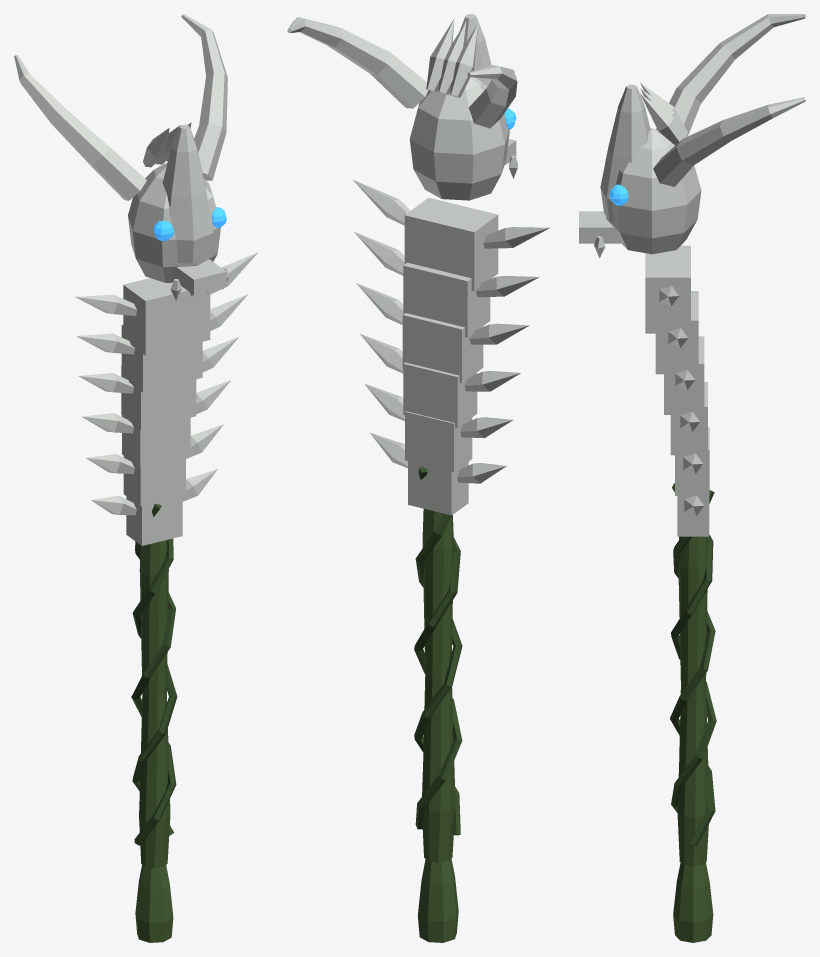
Rendered from staff_frostbone.glb.
3 renders of one model, left to right at view 1: azimuth 30°, elevation 25°; view 2: azimuth 150°, elevation 25°; view 3: azimuth 270°, elevation 25°, orthographic. The views are drawn at different scales.
Parts seen in each view (by area): view 1: Fb_Shaft, Fb_Spine5, Fb_Snout, Fb_Skull, Fb_Horn0, Fb_Horn1, Fb_Spine4, Fb_Spine3, Fb_Butt, Fb_Spine2, Fb_Spine1, Fb_Spine0 (+13 smaller); view 2: Fb_Shaft, Fb_Skull, Fb_Spine5, Fb_Spine4, Fb_Horn1, Fb_Spine3, Fb_Spine2, Fb_Spine1, Fb_Butt, Fb_Spine0, Fb_Wrap0, Fb_Wrap1 (+17 smaller); view 3: Fb_Shaft, Fb_Skull, Fb_Horn0, Fb_Horn1, Fb_Spine5, Fb_Snout, Fb_Butt, Fb_Wrap1, Fb_Wrap0, Fb_Spine4, Fb_Spine3, Fb_Spine2 (+4 smaller).
Part boxes in pixels (x1,y1,x2,y2): Fb_Shaft: (139, 540, 170, 868); Fb_Spine5: (123, 278, 210, 355); Fb_Snout: (162, 124, 213, 263); Fb_Skull: (128, 163, 220, 282); Fb_Horn0: (14, 55, 146, 200); Fb_Horn1: (181, 14, 227, 180); Fb_Spine4: (121, 324, 202, 392); Fb_Spine3: (121, 365, 196, 429); Fb_Butt: (135, 864, 173, 942); Fb_Spine2: (122, 416, 190, 467); Fb_Spine1: (123, 456, 185, 506); Fb_Spine0: (126, 496, 182, 545); Fb_Shaft: (422, 509, 455, 862); Fb_Skull: (409, 77, 509, 200); Fb_Spine5: (404, 197, 498, 290); Fb_Spine4: (403, 262, 490, 337); Fb_Horn1: (287, 17, 428, 108); Fb_Spine3: (402, 313, 483, 382); Fb_Spine2: (403, 362, 477, 427); Fb_Spine1: (405, 411, 472, 471); Fb_Butt: (417, 858, 458, 942); Fb_Spine0: (408, 461, 468, 515); Fb_Wrap0: (414, 466, 462, 829); Fb_Wrap1: (414, 513, 462, 835); Fb_Shaft: (677, 536, 708, 866); Fb_Skull: (606, 128, 701, 254); Fb_Horn0: (656, 14, 805, 136); Fb_Horn1: (653, 97, 805, 186); Fb_Spine5: (645, 245, 690, 333); Fb_Snout: (600, 84, 650, 223); Fb_Butt: (673, 862, 713, 942); Fb_Wrap1: (671, 483, 716, 812); Fb_Wrap0: (670, 490, 715, 845); Fb_Spine4: (655, 291, 698, 374); Fb_Spine3: (664, 336, 704, 414); Fb_Spine2: (670, 382, 707, 455).
Bounding box in the file's own units: 0.5019 × 2.12 × 0.4967.
